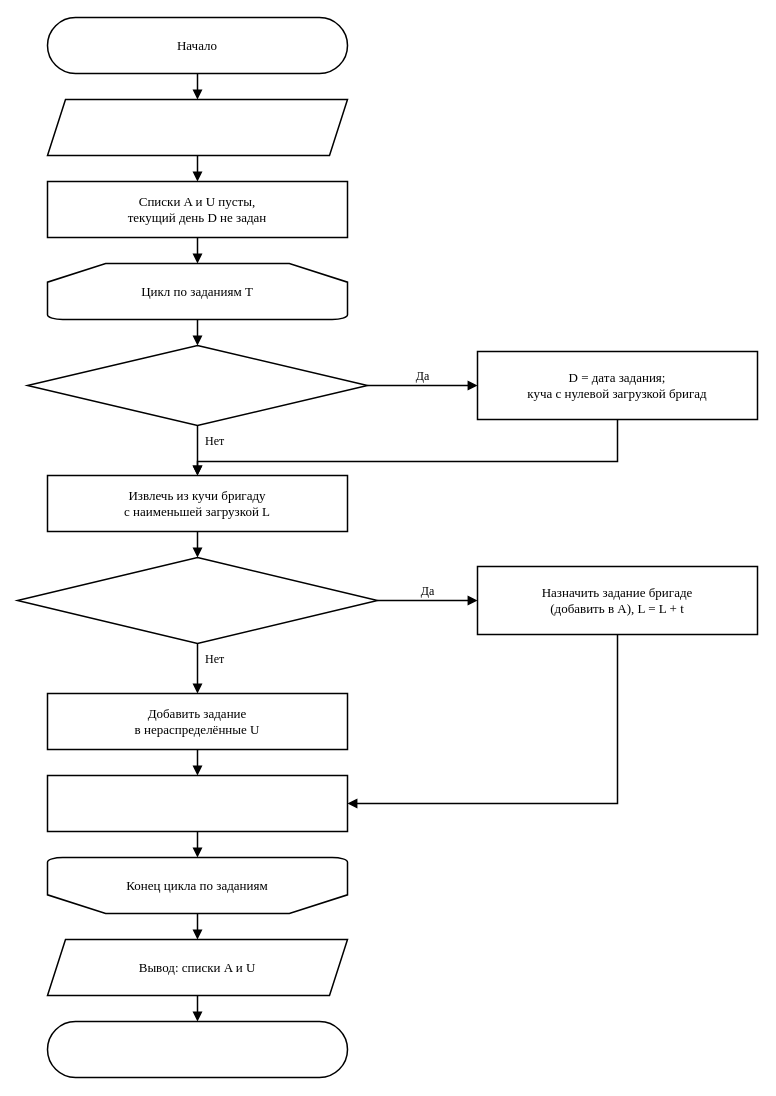
The diagram is 776 pixels wide and 1096 high, and some of its shapes have lost their labels. Here are the shapes that lost their labels. From the top down, the centre of each, then its label:
the point at 197,127: Ввод: список заданий T, список бригад
the point at 197,385: Дата задания не равна D?
the point at 197,600: L + t не больше длительности смены?
the point at 197,803: Вернуть бригаду в кучу с загрузкой L
the point at 197,1049: Конец
